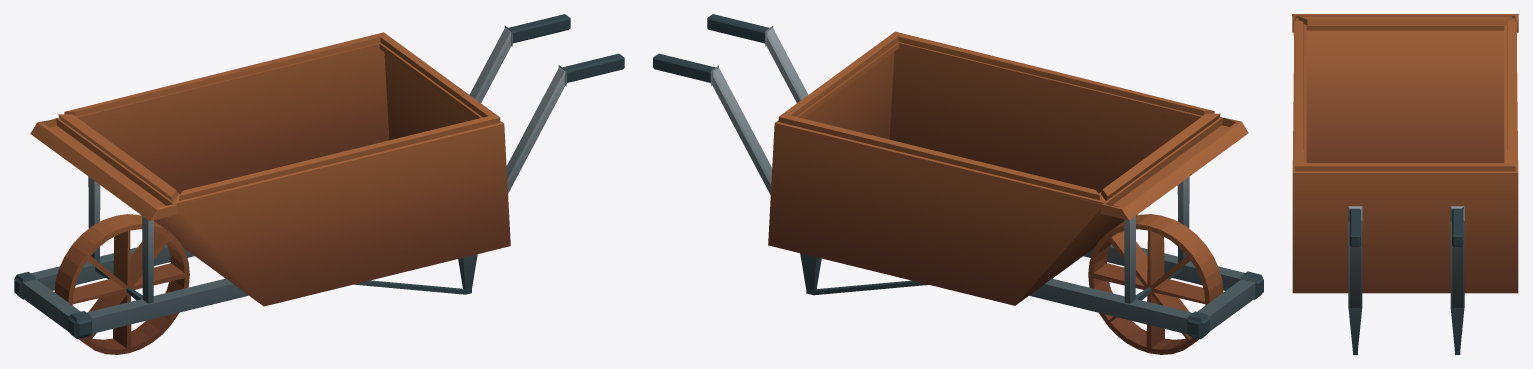
Rendered from CarrinhodeJardinagem.fbx.
3 renders of one model, left to right at view 1: azimuth 30°, elevation 25°; view 2: azimuth 150°, elevation 25°; view 3: azimuth 270°, elevation 25°, orthographic. The views are drawn at different scales.
Parts seen in each view (by area): view 1: Cube.001; view 2: Cube.001; view 3: Cube.001.
Boxes of the visible parts, bbox=[...] form: Cube.001: bbox=[14, 14, 624, 354]; Cube.001: bbox=[653, 14, 1263, 354]; Cube.001: bbox=[1292, 14, 1518, 354].
Size of the model in its own units: 572 by 200 by 215.
1 material, 1 textured.
